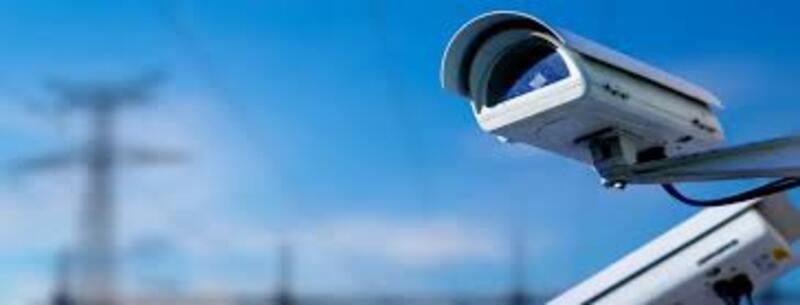bullet: (433, 26, 722, 180)
